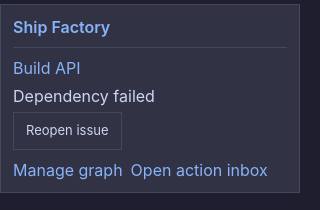
Test: Factory human action cards › reopens failed delivery work on a human click
This screenshot has width=320, height=210.
Click the button "Reopen issue" at (67,131), box left=13, top=112, right=122, bottom=150
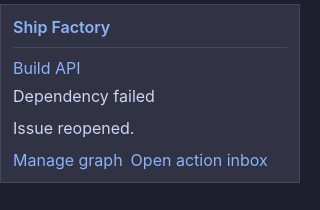
Now the text "Issue reopened." is shown, box left=13, top=118, right=134, bottom=138
